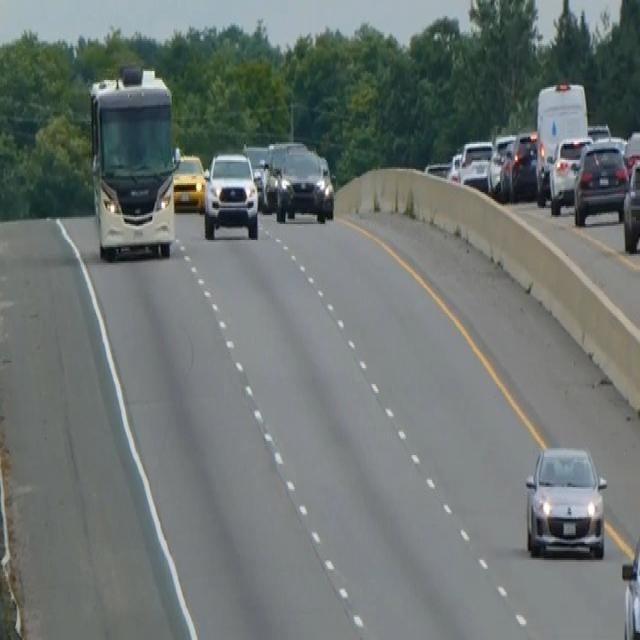bus: (86, 61, 179, 262)
car: (522, 439, 609, 560), (203, 149, 259, 240), (573, 137, 628, 226), (274, 146, 334, 224), (548, 134, 592, 214), (259, 138, 306, 210), (500, 130, 538, 201), (621, 518, 639, 638), (172, 151, 206, 212), (457, 137, 493, 192), (487, 132, 516, 196), (622, 154, 639, 252), (242, 142, 269, 198), (445, 151, 462, 183)
